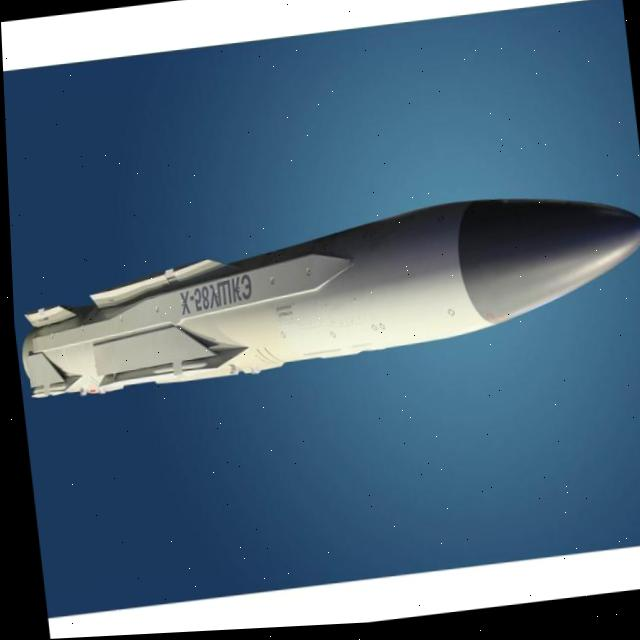missile: (7, 180, 640, 407)
